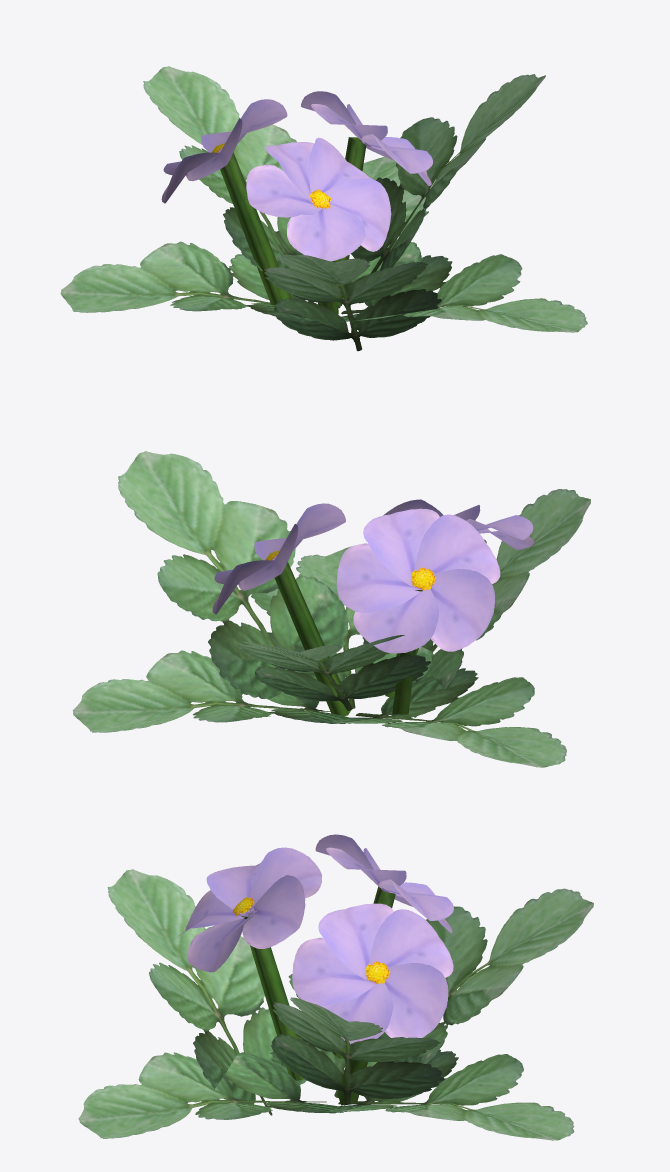
Rendered from indigof2.fbx.
The picture shows the model from 3 angles, top to bottom: view 1: azimuth 30°, elevation 25°; view 2: azimuth 150°, elevation 25°; view 3: azimuth 270°, elevation 25°; orthographic projection. The views are drawn at different scales.
Parts seen in each view (by area): view 1: indigof02; view 2: indigof02; view 3: indigof02.
Part boxes in pixels (bbox=[...]): indigof02: bbox=[60, 66, 587, 351]; indigof02: bbox=[72, 451, 590, 767]; indigof02: bbox=[78, 834, 593, 1140].
Size of the model in its own units: 33.46 by 15.92 by 34.43.
